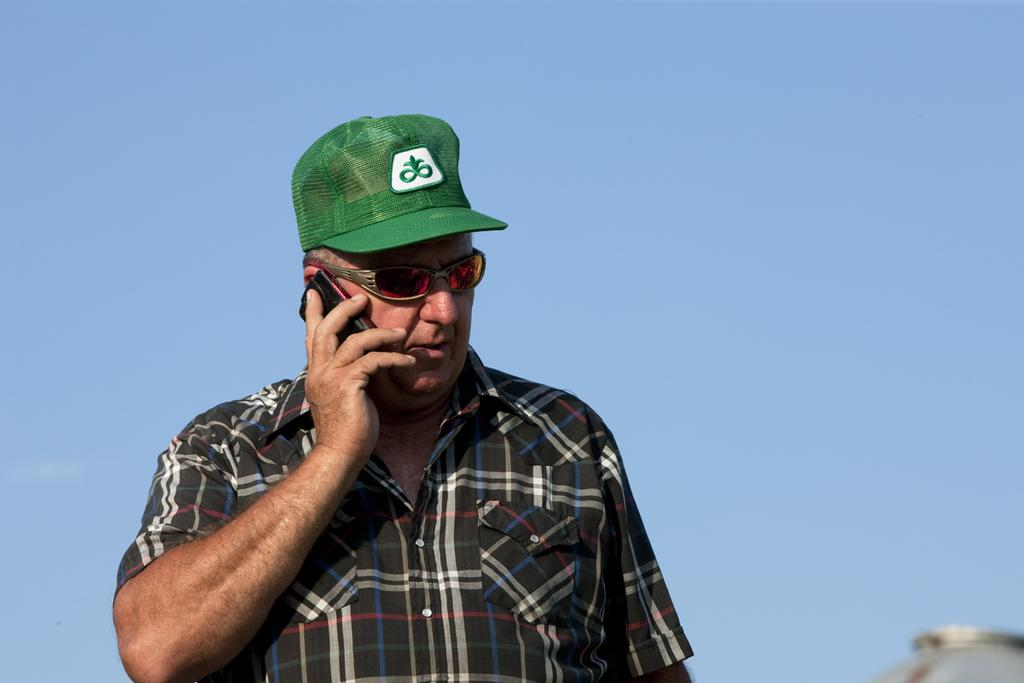Hat: (292, 110, 510, 256)
